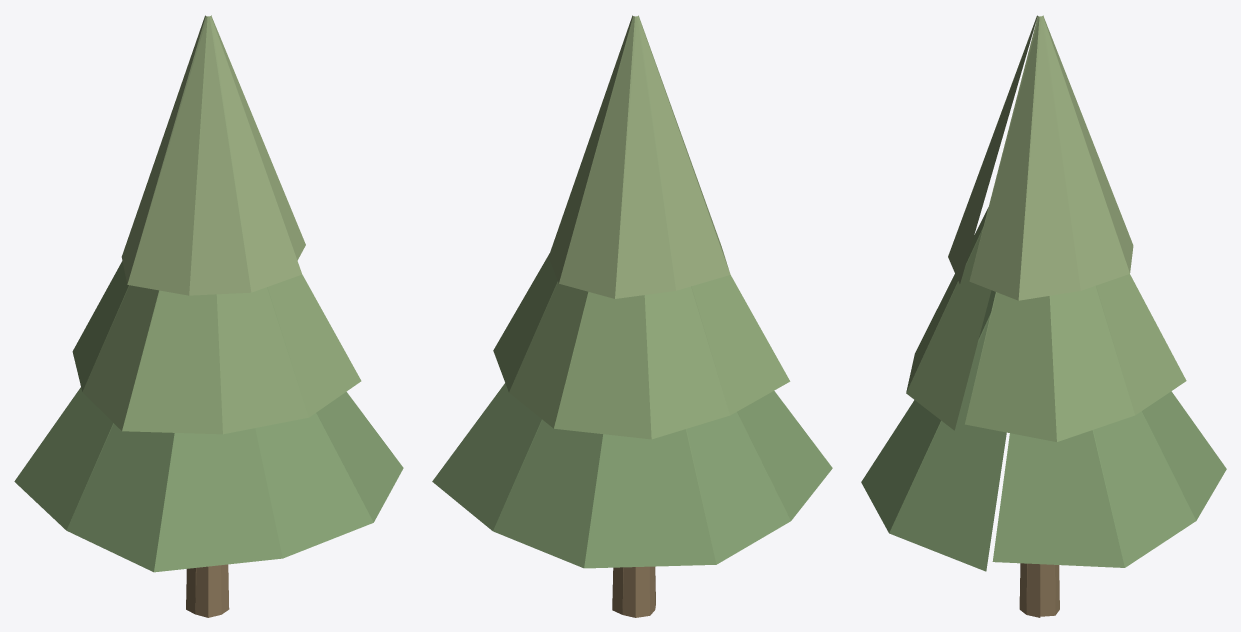
The model's file is conifer_1.glb.
3 renders of one model, left to right at view 1: azimuth 30°, elevation 25°; view 2: azimuth 150°, elevation 25°; view 3: azimuth 270°, elevation 25°, orthographic.
Size of the model in its own units: 3.02 by 5.4 by 3.02.
